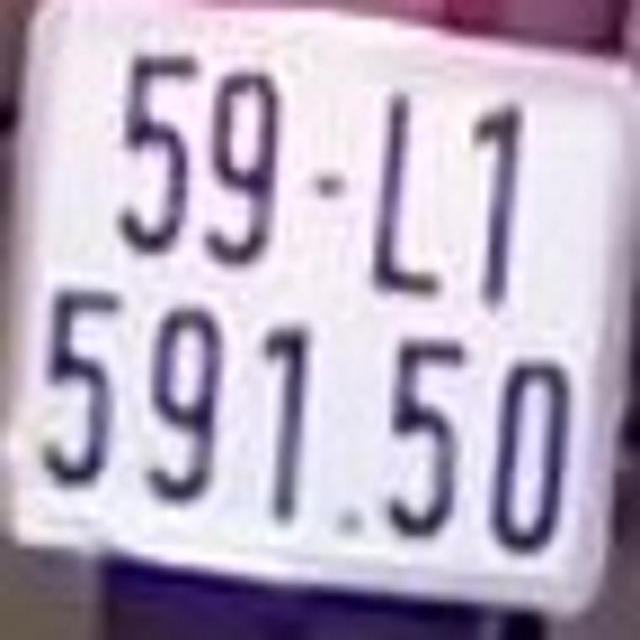0: (487, 335, 572, 560)
1: (245, 300, 321, 532), (456, 94, 532, 308)
5: (388, 323, 471, 543), (119, 48, 202, 259), (46, 276, 124, 495)
9: (145, 284, 224, 514), (202, 47, 281, 266)
L: (360, 88, 446, 301)
